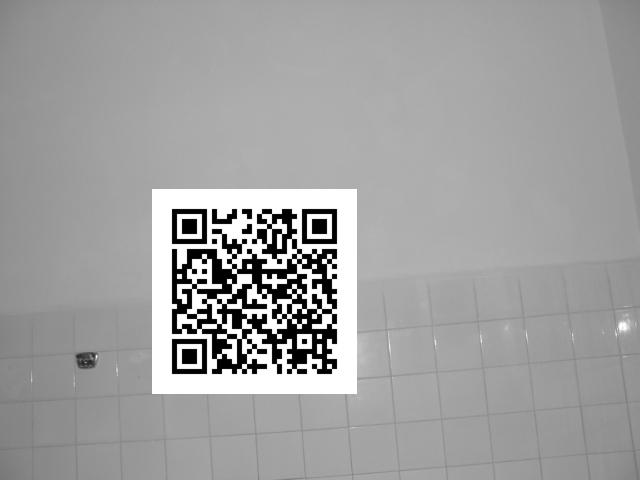qr_code: (162, 196, 343, 383)
